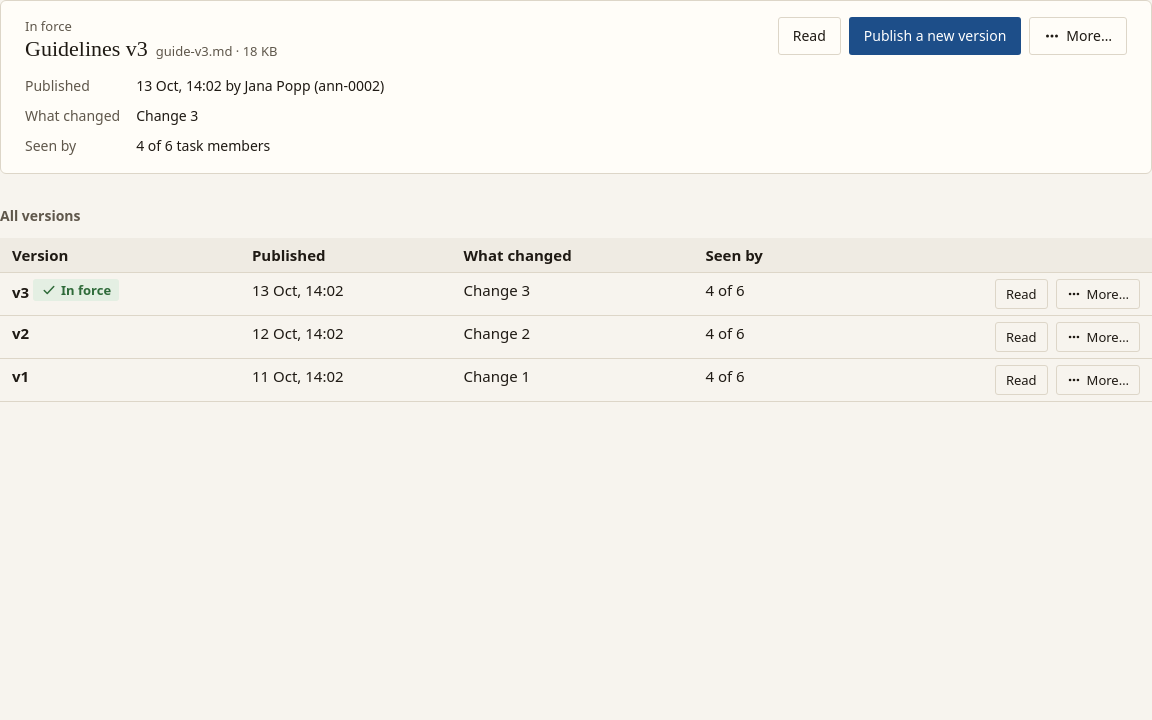
Settings › Guidelines › withdraw dialog for the current version adds the no-guideline sentence
Expected: the button "Withdraw" is not shown
What coordinates should you click on to do the following:
click the button "More…" in the row of "guide-v3.md · 18 KB"
I would click on:
 (1078, 36)
Its box is [1029, 17, 1127, 55].
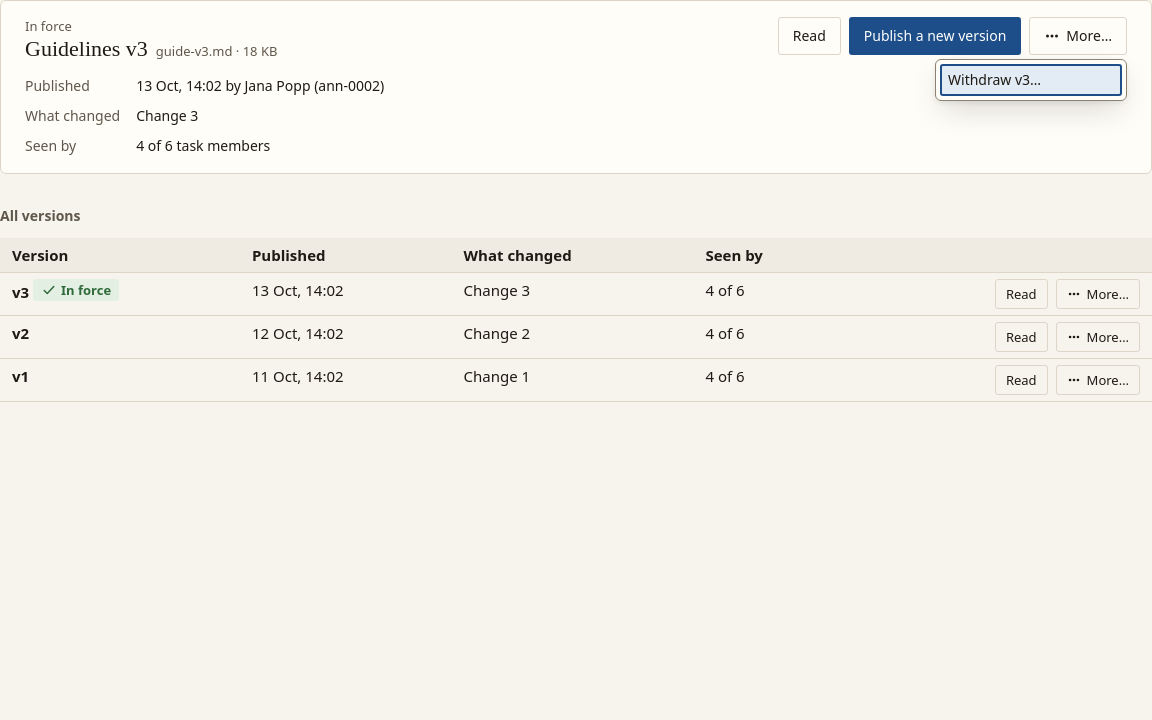
What coordinates should you click on to do the following:
click the menu item "Withdraw v3…"
I would click on:
 (1031, 80)
Its box is [940, 64, 1122, 96].
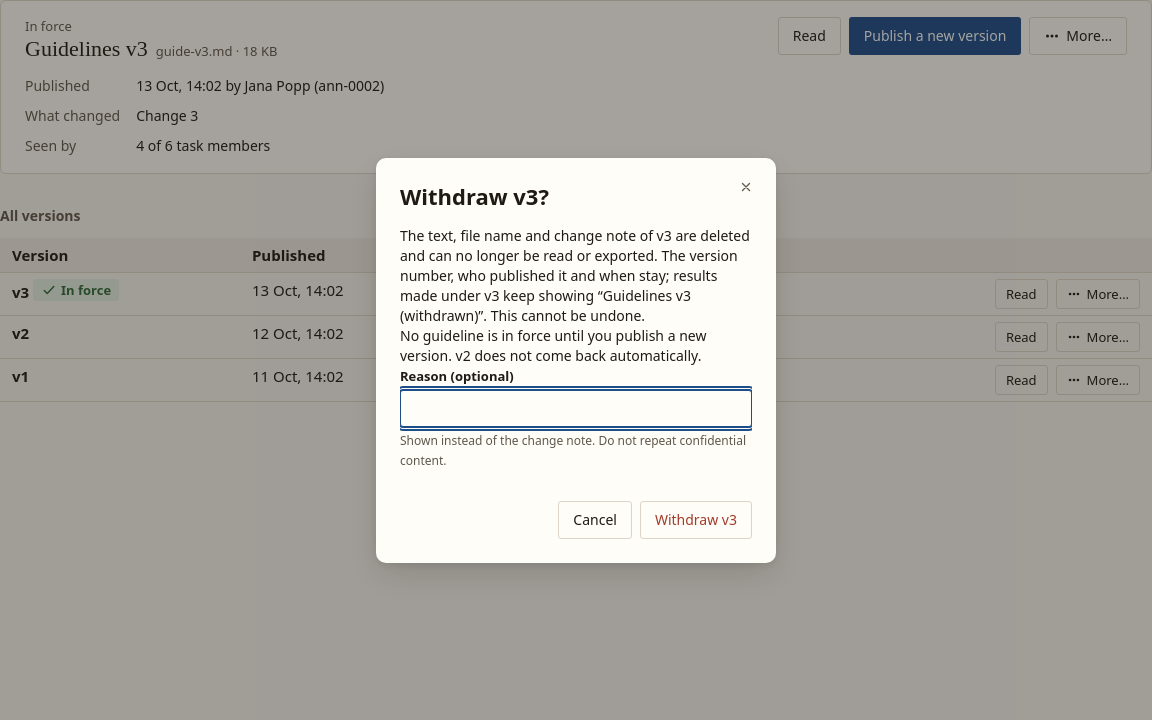
Expected: the text "The text, file name and change note of v3 are deleted and can no longer be read or exported. The version number, who pub" is shown, [400, 226, 750, 324]
Expected: the text "No guideline is in force until you publish a new version. v2 does not come back automatically." is shown, [400, 326, 706, 364]
Expected: the field labelled "Reason (optional)" is shown, [400, 390, 752, 426]
What coordinates should you click on to do the following:
click the button "Cancel"
I would click on:
 (595, 520)
Its box is [558, 500, 632, 538].
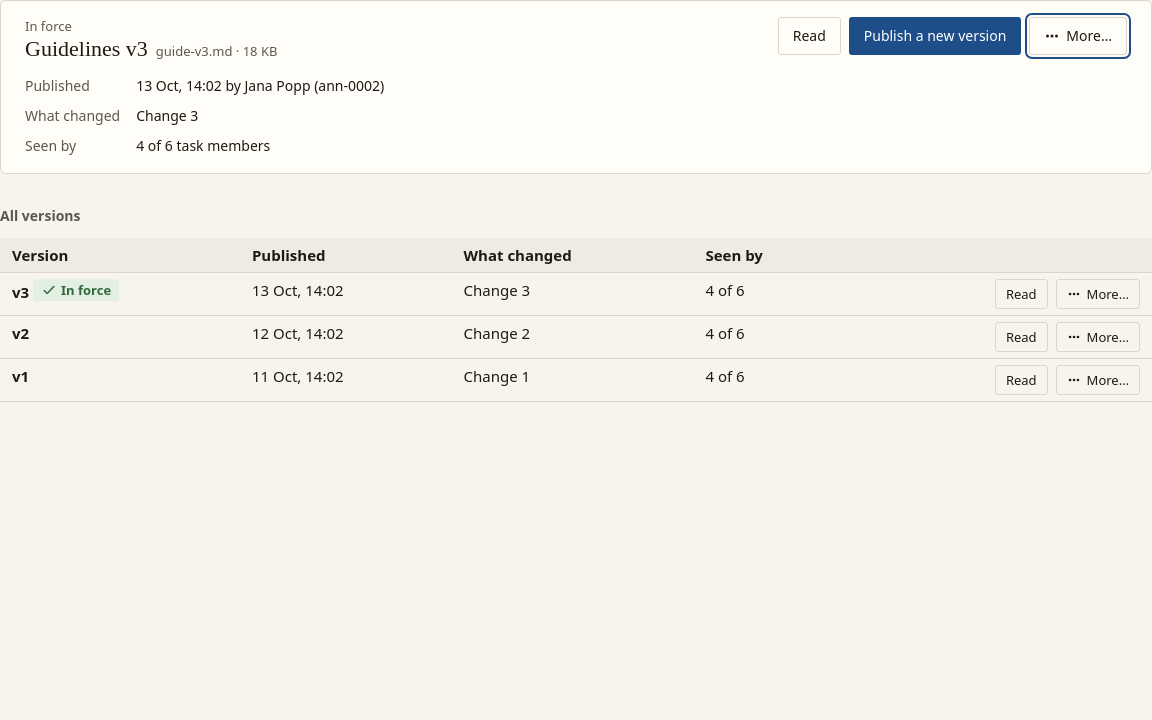
Expected: the dialog is gone
